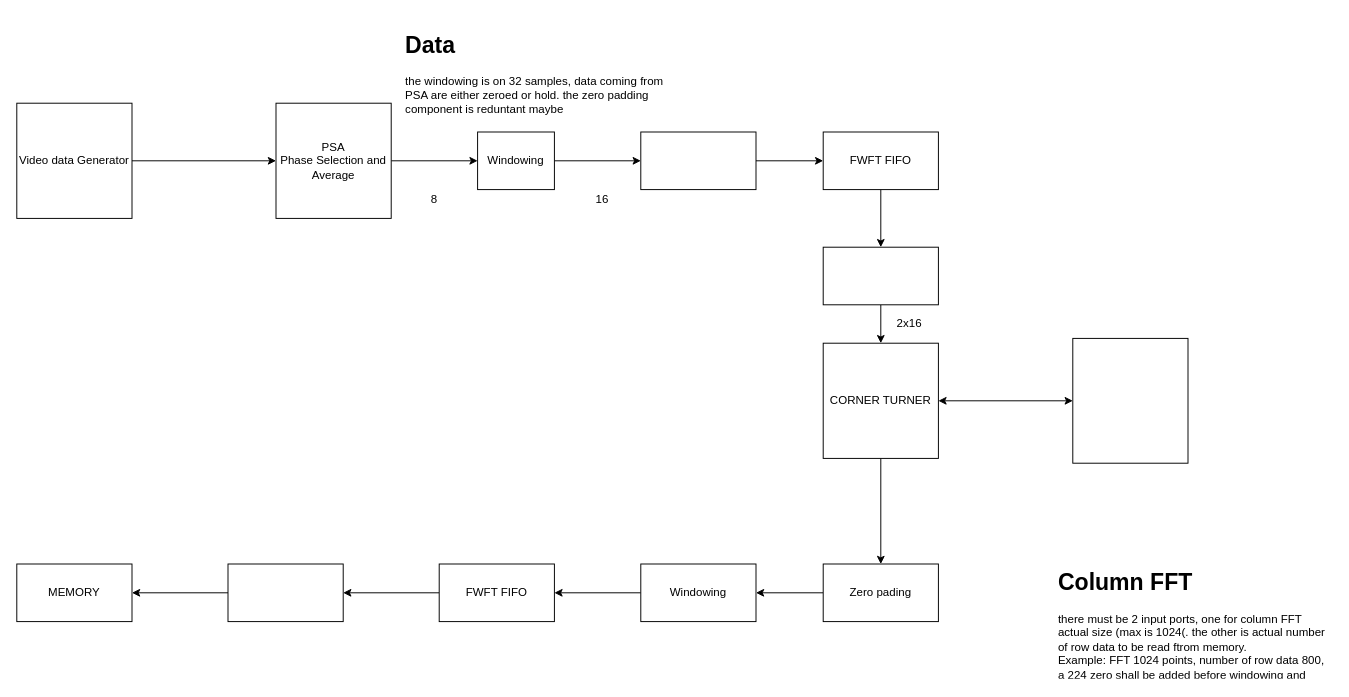
Some shapes in this 1349 by 697 pixel diagram are drawn without their labels. The shapes that lost their labels are listed below. From the top down, each one's centre as x and y in pixels, then its label:
At [698,160]: "Zero Padding module".
At [880,275]: "FFT Row SCALED".
At [1130,400]: "BRAM 32 x1024x2x16".
At [285,592]: "FFT Column".
